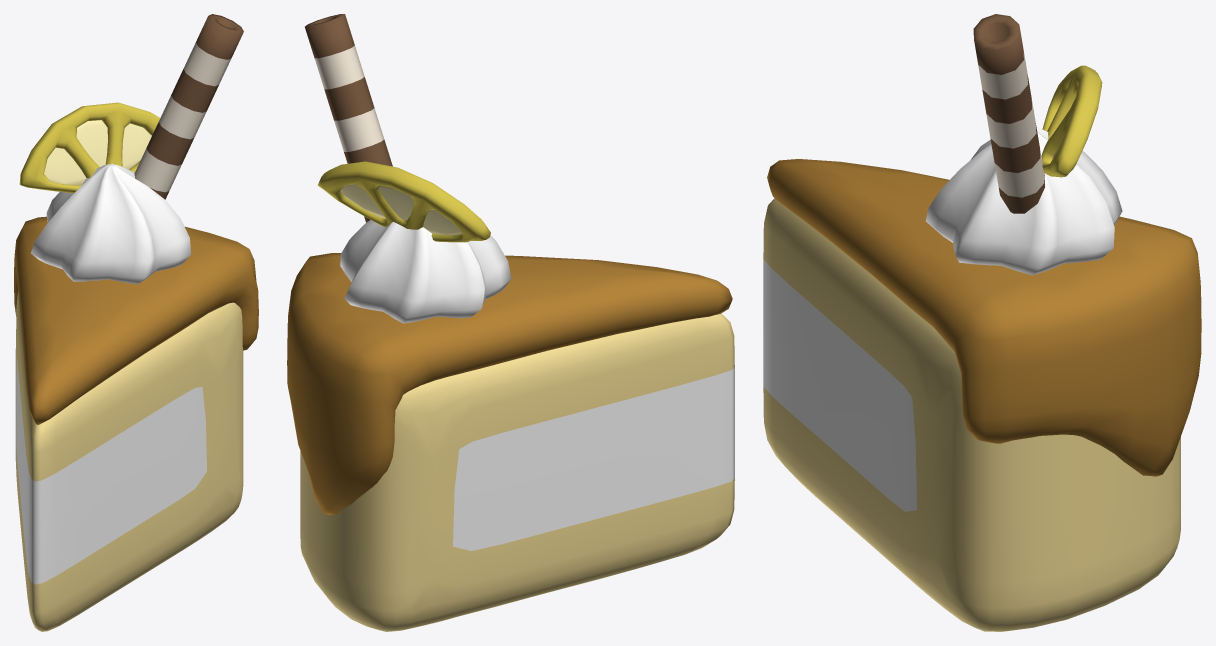
The model's file is Food_CakeSlice_01_Lemon.glb.
The picture shows the model from 3 angles, left to right: view 1: azimuth 30°, elevation 25°; view 2: azimuth 150°, elevation 25°; view 3: azimuth 270°, elevation 25°; orthographic projection. The views are drawn at different scales.
Parts seen in each view (by area): view 1: SM_Food_CakeSlice_01_Lemon_Base, SM_Food_CakeSlice_01_Lemon_Frosting, SM_Food_CakeSlice_01_Lemon_WhippedCream, SM_Food_CakeSlice_01_Lemon_LemonSlice, SM_Food_CakeSlice_01_Lemon_ChocoRoll; view 2: SM_Food_CakeSlice_01_Lemon_Base, SM_Food_CakeSlice_01_Lemon_Frosting, SM_Food_CakeSlice_01_Lemon_WhippedCream, SM_Food_CakeSlice_01_Lemon_LemonSlice, SM_Food_CakeSlice_01_Lemon_ChocoRoll; view 3: SM_Food_CakeSlice_01_Lemon_Base, SM_Food_CakeSlice_01_Lemon_Frosting, SM_Food_CakeSlice_01_Lemon_WhippedCream, SM_Food_CakeSlice_01_Lemon_ChocoRoll, SM_Food_CakeSlice_01_Lemon_LemonSlice.
Boxes of the visible parts, <box> form: SM_Food_CakeSlice_01_Lemon_Base: <box>15,291,243,631</box>; SM_Food_CakeSlice_01_Lemon_Frosting: <box>14,216,258,424</box>; SM_Food_CakeSlice_01_Lemon_WhippedCream: <box>31,163,191,284</box>; SM_Food_CakeSlice_01_Lemon_LemonSlice: <box>19,102,160,193</box>; SM_Food_CakeSlice_01_Lemon_ChocoRoll: <box>134,14,243,199</box>; SM_Food_CakeSlice_01_Lemon_Base: <box>300,313,734,631</box>; SM_Food_CakeSlice_01_Lemon_Frosting: <box>287,253,732,514</box>; SM_Food_CakeSlice_01_Lemon_WhippedCream: <box>340,220,511,323</box>; SM_Food_CakeSlice_01_Lemon_LemonSlice: <box>317,161,490,242</box>; SM_Food_CakeSlice_01_Lemon_ChocoRoll: <box>305,14,392,222</box>; SM_Food_CakeSlice_01_Lemon_Base: <box>763,198,1180,631</box>; SM_Food_CakeSlice_01_Lemon_Frosting: <box>767,159,1201,476</box>; SM_Food_CakeSlice_01_Lemon_WhippedCream: <box>925,127,1122,275</box>; SM_Food_CakeSlice_01_Lemon_ChocoRoll: <box>973,14,1044,213</box>; SM_Food_CakeSlice_01_Lemon_LemonSlice: <box>1041,65,1102,177</box>.
Size of the model in its own units: 0.2826 by 0.4353 by 0.2791.
Materials: 1 (1 with a texture image).
